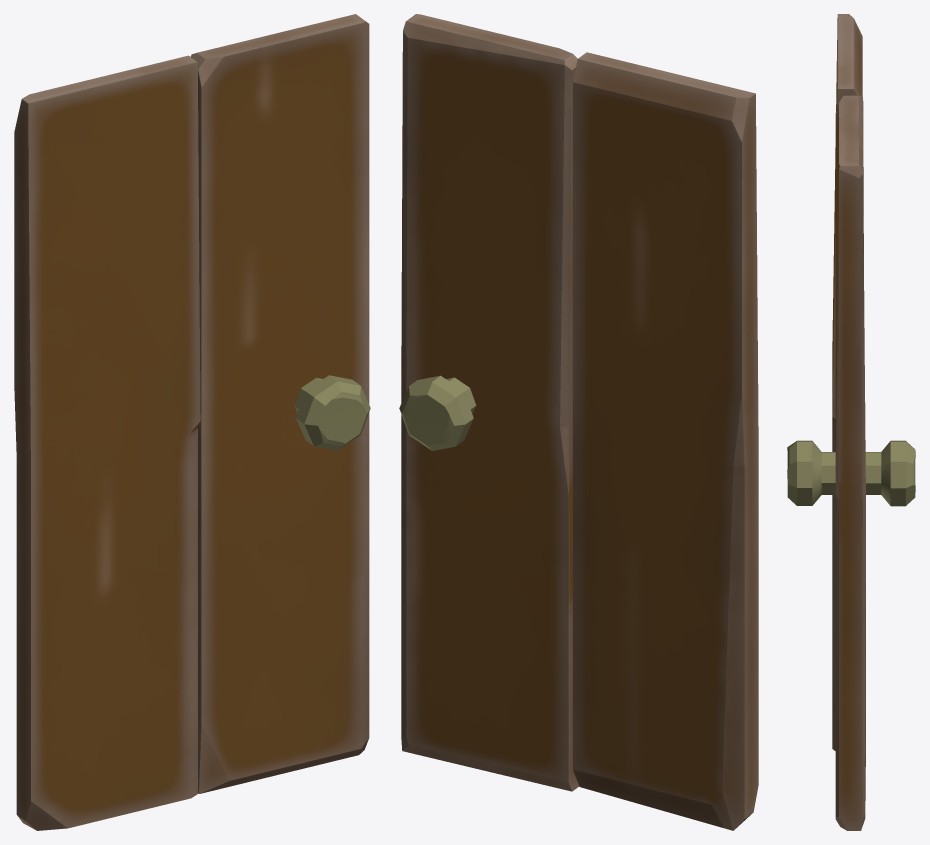
Rendered from Windowflap2.fbx.
3 renders of one model, left to right at view 1: azimuth 30°, elevation 25°; view 2: azimuth 150°, elevation 25°; view 3: azimuth 270°, elevation 25°, orthographic. The views are drawn at different scales.
Visible parts, largest first — view 1: windowflap2; view 2: windowflap2; view 3: windowflap2.
Boxes of the visible parts, <box> form: windowflap2: <box>14,14,370,830</box>; windowflap2: <box>399,14,758,830</box>; windowflap2: <box>787,14,915,830</box>.
Size of the model in its own units: 16.96 by 6.09 by 34.78.
